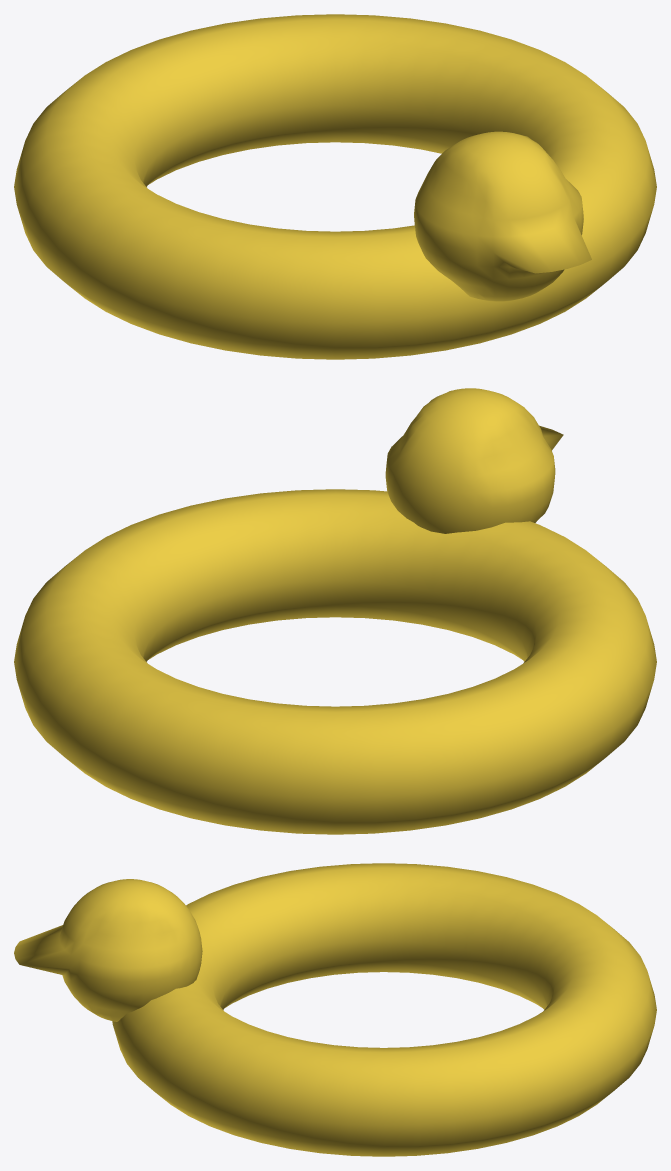
File: bouee.fbx
The picture shows the model from 3 angles, top to bottom: view 1: azimuth 30°, elevation 25°; view 2: azimuth 150°, elevation 25°; view 3: azimuth 270°, elevation 25°; orthographic projection. The views are drawn at different scales.
Visible parts, largest first — view 1: Torus, Sphere; view 2: Torus, Sphere; view 3: Torus, Sphere.
Boxes of the visible parts, x1,y1,x2,y2 form: Torus: [14, 14, 656, 359]; Sphere: [414, 131, 591, 301]; Torus: [14, 489, 656, 834]; Sphere: [385, 388, 563, 533]; Torus: [112, 863, 656, 1156]; Sphere: [14, 879, 202, 1021].
Bounding box in the file's own units: 414 × 150 × 488.
